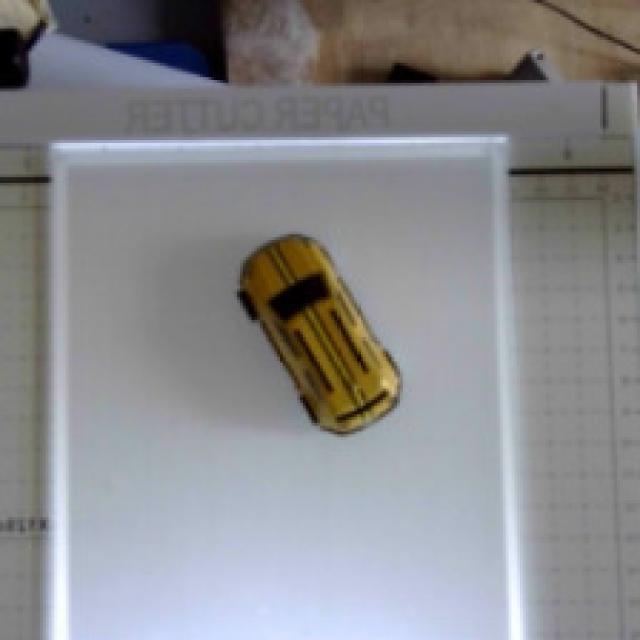Yellow Car: (197, 213, 453, 458)
